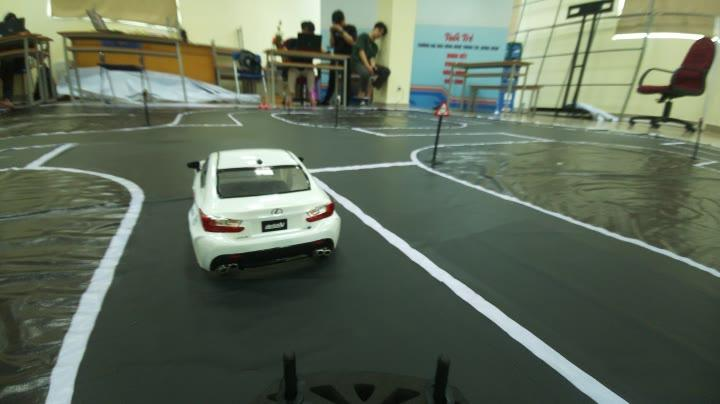car: (196, 137, 330, 264)
